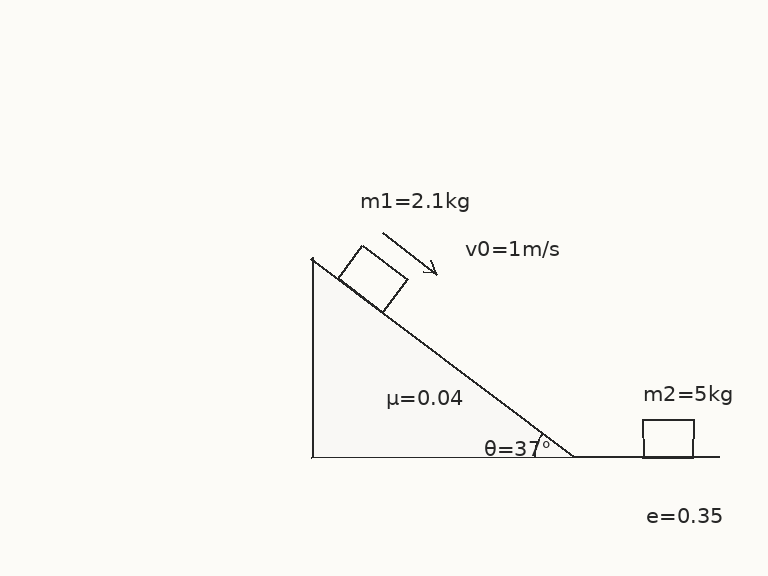block: (336, 244, 409, 314), (640, 418, 696, 459)
ramp: (309, 256, 577, 459)
